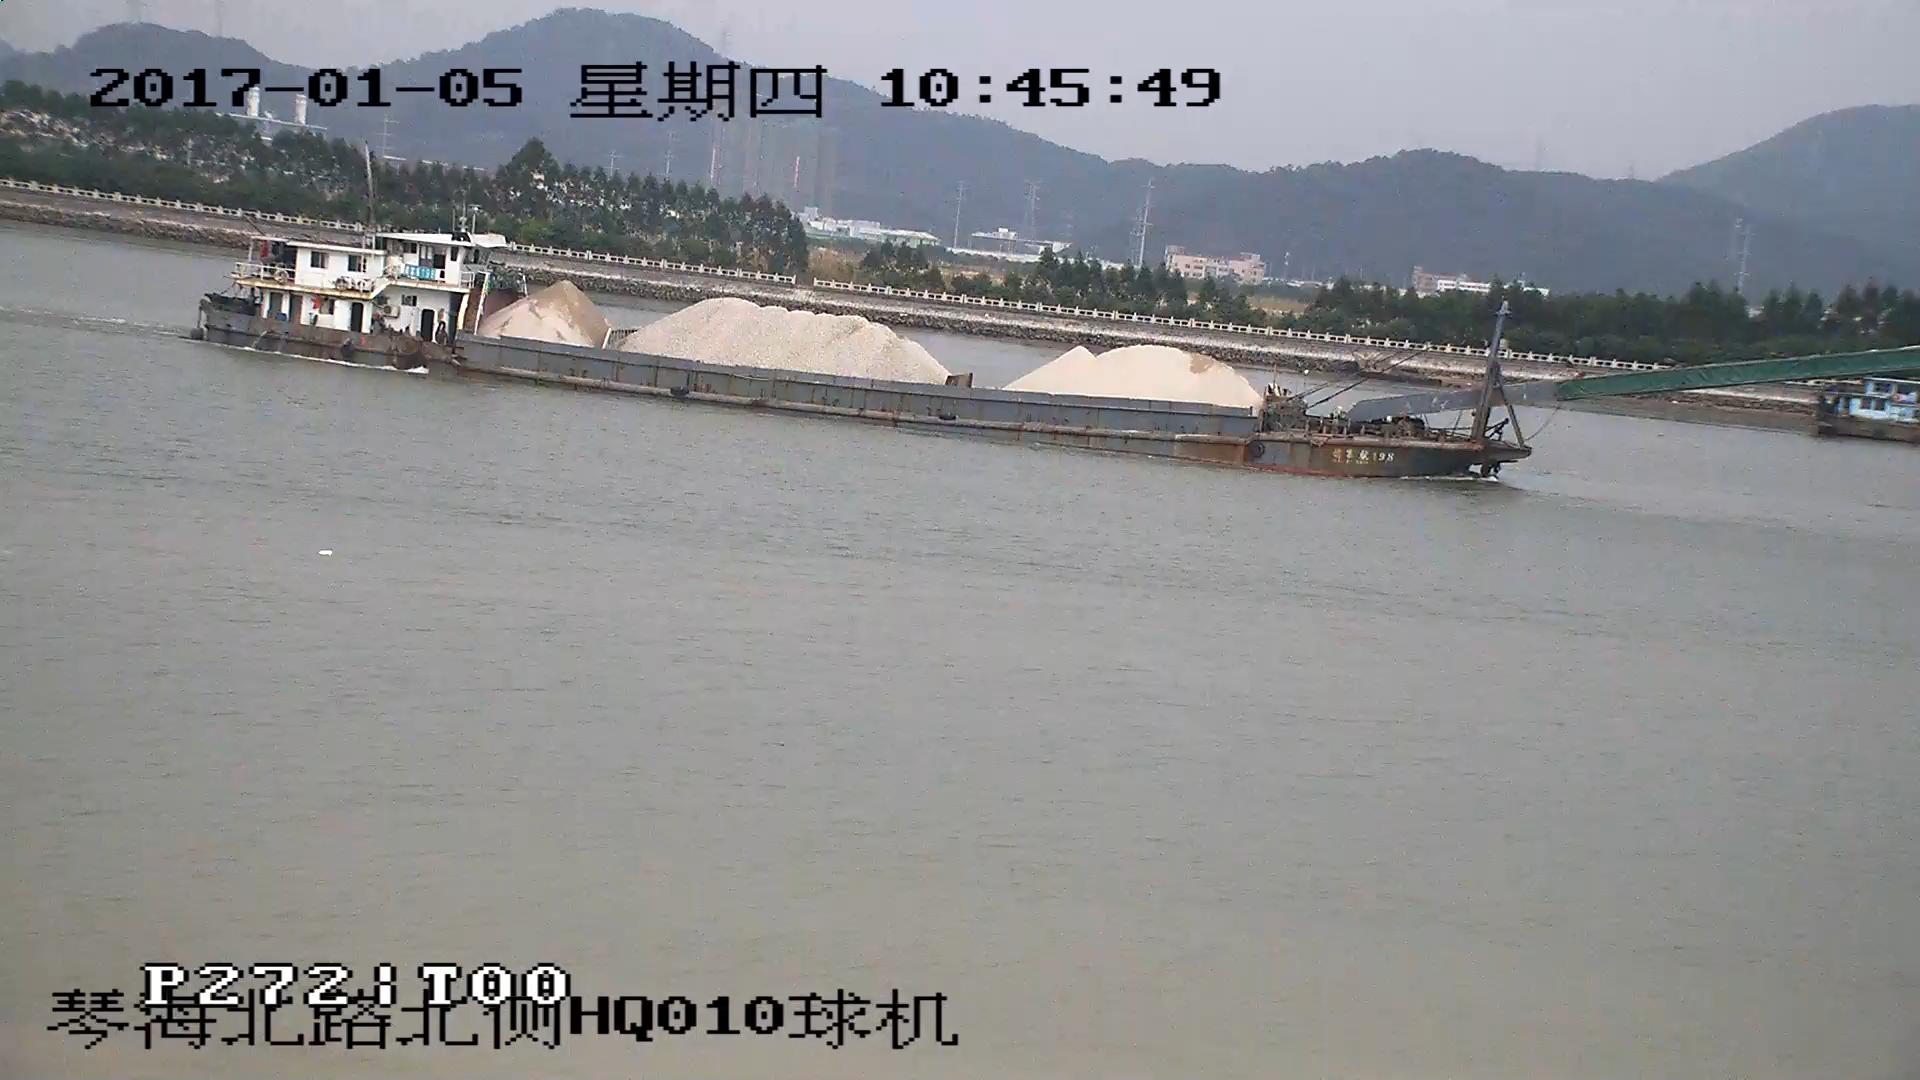ore carrier: (197, 231, 1920, 482)
